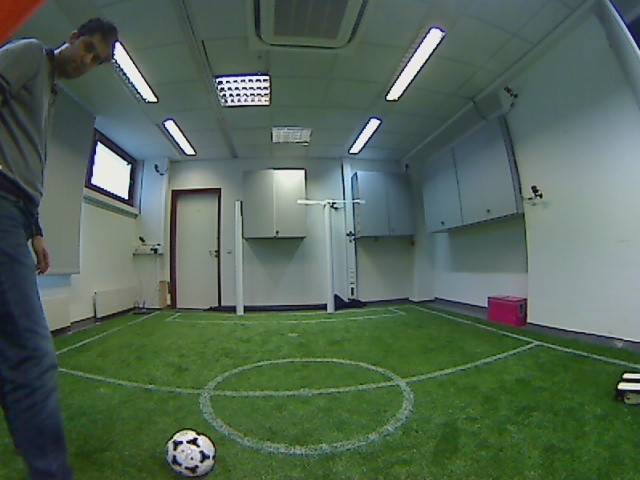ball: (160, 426, 217, 477)
